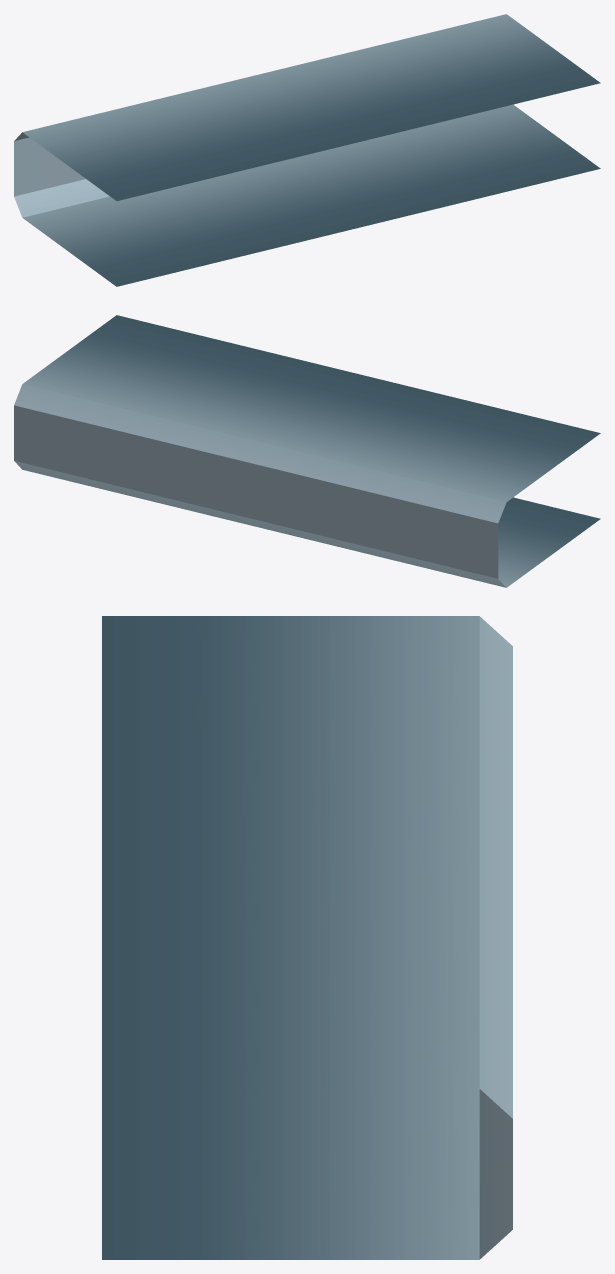
File: Wall 01.FBX
3 views of the same model, one above another, from view 1: azimuth 30°, elevation 25°; view 2: azimuth 150°, elevation 25°; view 3: azimuth 270°, elevation 25° (orthographic). The views are drawn at different scales.
Visible parts, largest first — view 1: Wall 01; view 2: Wall 01; view 3: Wall 01.
Part boxes in pixels (left/top/right/bottom): Wall 01: left=14, top=14, right=600, bottom=286; Wall 01: left=14, top=315, right=600, bottom=587; Wall 01: left=102, top=616, right=512, bottom=1259.
Bounding box in the file's own units: 304 × 51.35 × 112.
Materials: 1 (1 with a texture image).
